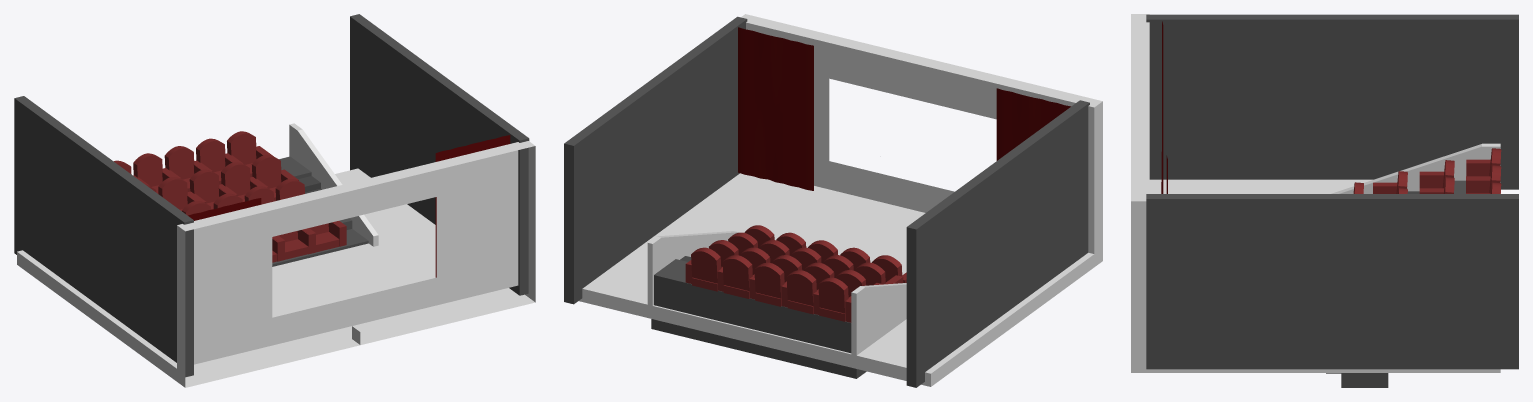
File: Theatre.fbx
3 renders of one model, left to right at view 1: azimuth 30°, elevation 25°; view 2: azimuth 150°, elevation 25°; view 3: azimuth 270°, elevation 25°, orthographic. The views are drawn at different scales.
Parts seen in each view (by area): view 1: Cube, pasted__pCube1, pasted__pasted__pCube1, pasted__pasted__pasted__pasted__Chair (×3), pasted__pasted__pasted__Chair (×2), pasted__Chair (×2), pasted__pasted__Chair (×2), pPlane1, pasted__pasted__pasted__pasted__pasted__Chair, Chair, pasted__pasted__pasted__pCube1, pasted__pPlane1; view 2: Cube, pasted__pCube1, pasted__pasted__pCube1, pPlane1, pCube1, pasted__pasted__pasted__Chair (×3), pasted__pPlane1, pasted__pasted__Chair (×3), pasted__Chair (×2), Chair, pasted__pasted__pasted__pasted__Chair; view 3: pasted__pasted__pCube1, pasted__pCube1, Cube, pasted__pasted__pasted__Chair (×2), pasted__pasted__pasted__pCube1, pasted__pasted__Chair, pasted__Chair, pasted__pPlane1.
Boxes of the visible parts, x1,y1,x2,y2 form: Cube: (17, 123, 535, 387); pasted__pCube1: (14, 96, 193, 377); pasted__pasted__pCube1: (350, 14, 529, 295); pasted__pasted__pasted__pasted__Chair (×3): (250, 155, 315, 259); pasted__pasted__pasted__Chair (×2): (219, 131, 273, 201); pasted__Chair (×2): (133, 153, 236, 209); pasted__pasted__Chair (×2): (158, 138, 232, 210); pPlane1: (435, 135, 510, 277); pasted__pasted__pasted__pasted__pasted__Chair: (302, 221, 346, 252); Chair: (164, 146, 201, 191); pasted__pasted__pasted__pCube1: (272, 229, 368, 266); pasted__pPlane1: (188, 198, 261, 220); Cube: (579, 14, 1102, 386); pasted__pCube1: (906, 100, 1089, 387); pasted__pasted__pCube1: (564, 16, 747, 304); pPlane1: (738, 27, 813, 190); pCube1: (651, 259, 866, 378); pasted__pasted__pasted__Chair (×3): (685, 247, 903, 322); pasted__pPlane1: (996, 88, 1070, 160); pasted__pasted__Chair (×3): (722, 255, 851, 322); pasted__Chair (×2): (754, 266, 819, 314); Chair: (754, 262, 787, 307); pasted__pasted__pasted__pasted__Chair: (872, 255, 906, 282); pasted__pasted__pCube1: (1146, 194, 1518, 369); pasted__pCube1: (1146, 14, 1518, 189); Cube: (1131, 14, 1500, 372); pasted__pasted__pasted__Chair (×2): (1373, 160, 1454, 193); pasted__pasted__pasted__pCube1: (1341, 373, 1388, 387); pasted__pasted__Chair: (1466, 148, 1501, 192); pasted__Chair: (1466, 165, 1501, 193); pasted__pPlane1: (1161, 21, 1163, 193).
Bounding box in the file's own units: 2405 × 1383 × 2099.
